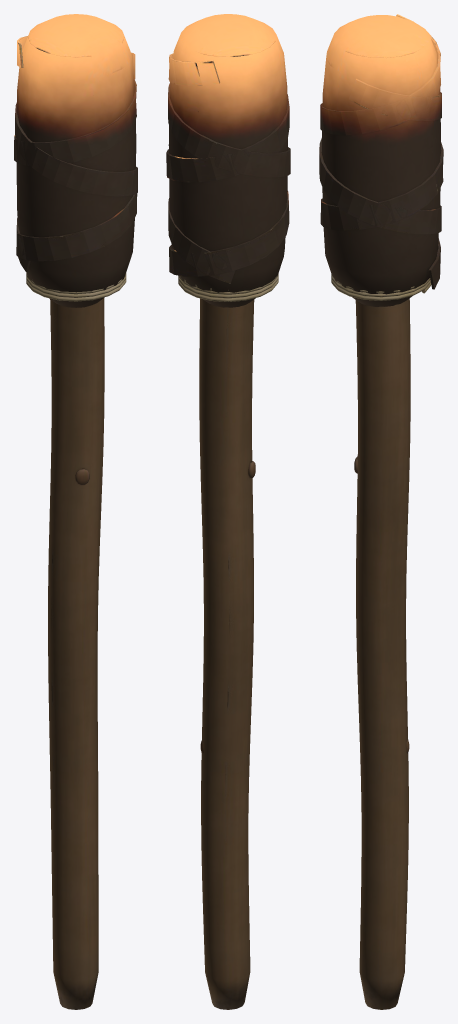
Rendered from torch.glb.
3 views of the same model, side by side, from view 1: azimuth 90°, elevation 25°; view 2: azimuth 150°, elevation 25°; view 3: azimuth 330°, elevation 25° (orthographic).
Parts seen in each view (by area): view 1: Handle, Wrap; view 2: Handle, Wrap; view 3: Handle, Wrap.
Part boxes in pixels (<box>): Handle: <box>48,298,104,1009</box>; Wrap: <box>14,14,137,307</box>; Handle: <box>199,298,255,1009</box>; Wrap: <box>166,14,290,307</box>; Handle: <box>354,298,410,1009</box>; Wrap: <box>319,14,443,306</box>.
Size of the model in its own units: 0.1495 by 1.3 by 0.1488.
2 materials, 2 textured.
